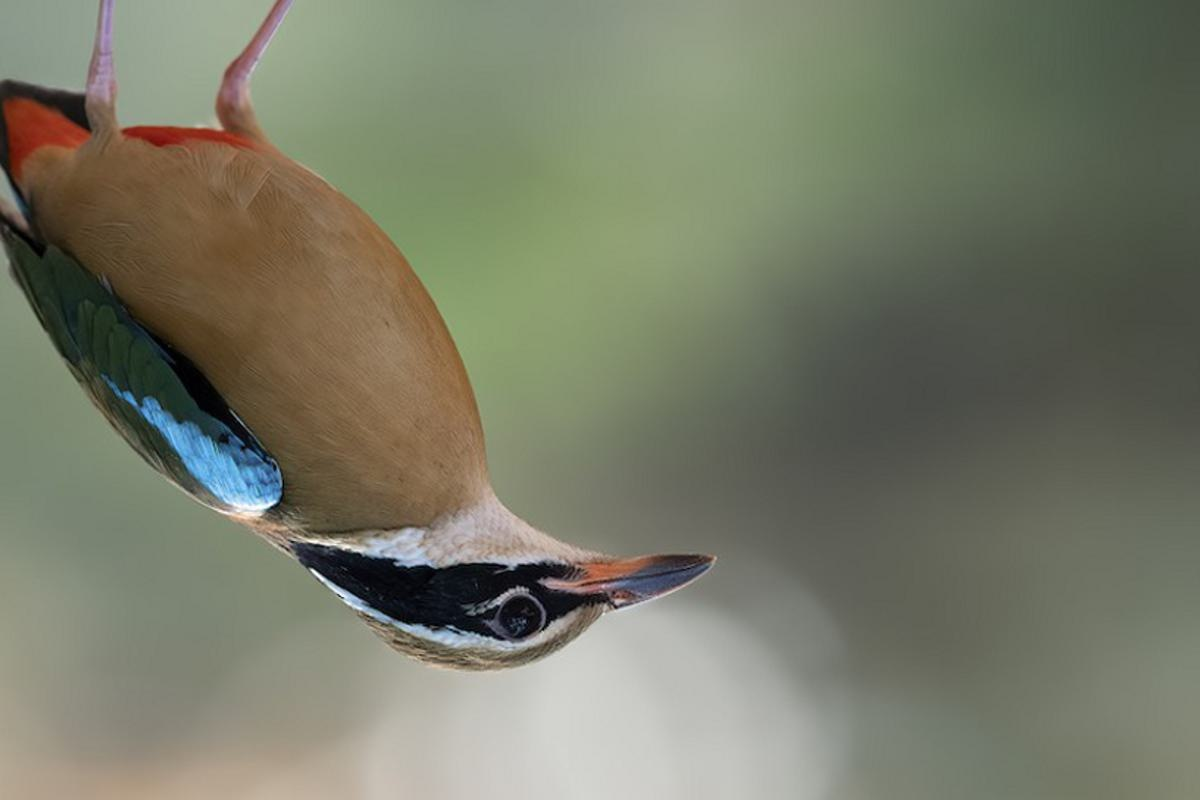pitta: (1, 41, 769, 681)
